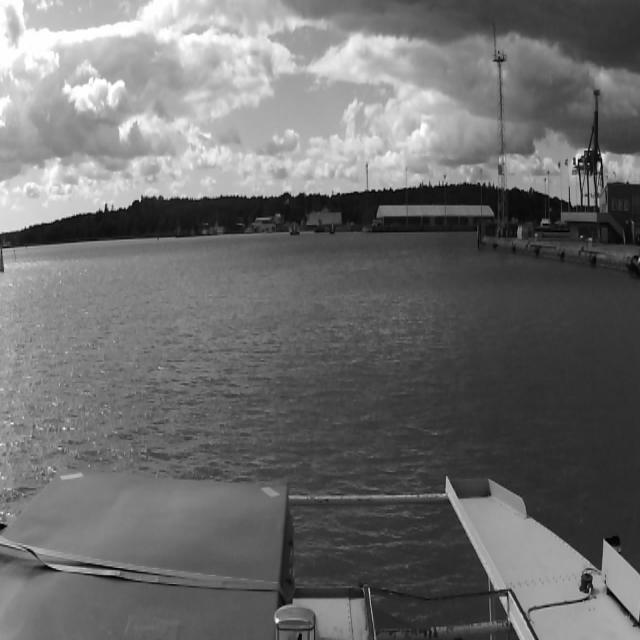buoy: (0, 245, 4, 272), (14, 248, 16, 261), (157, 235, 159, 240)
